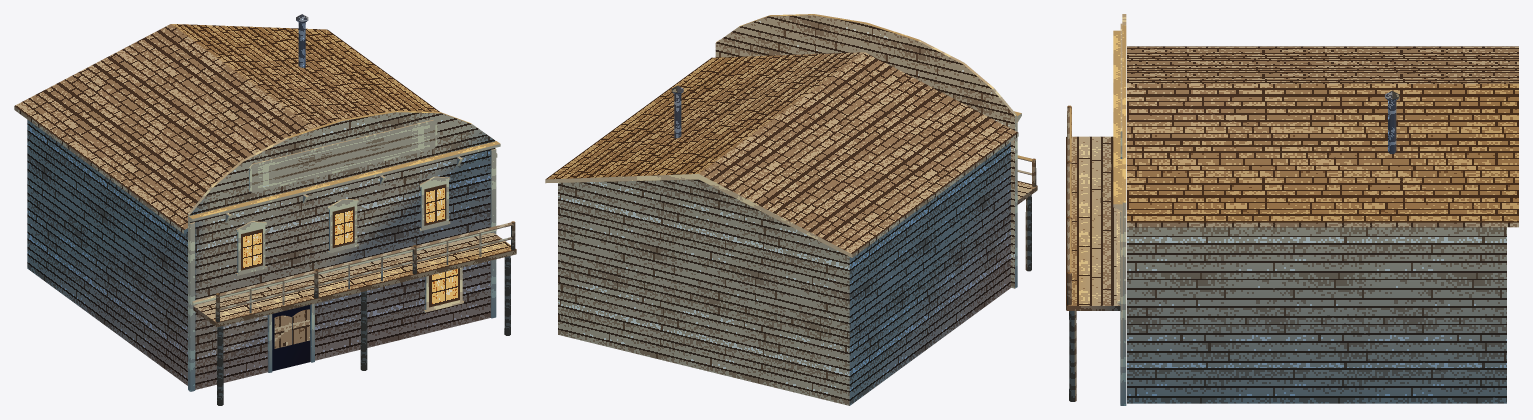
File: wtown.saloon__arched.glb
The picture shows the model from 3 angles, left to right: view 1: azimuth 30°, elevation 25°; view 2: azimuth 150°, elevation 25°; view 3: azimuth 270°, elevation 25°; orthographic projection. The views are drawn at different scales.
Parts seen in each view (by area): view 1: kit_roof, kit_front, kit_body, kit_balcony, kit_card_panes, kit_trim, kit_windows, kit_door, kit_stovepipe; view 2: kit_body, kit_roof, kit_front, kit_balcony, kit_stovepipe; view 3: kit_roof, kit_body, kit_balcony, kit_trim, kit_front, kit_stovepipe.
Boxes of the visible parts, box(x1,y1,x2,y2) form: kit_roof: box(14, 24, 497, 233); kit_front: box(188, 111, 495, 390); kit_body: box(27, 119, 187, 385); kit_balcony: box(193, 221, 516, 405); kit_card_panes: box(241, 122, 459, 371); kit_trim: box(188, 119, 500, 391); kit_windows: box(236, 176, 463, 312); kit_door: box(274, 309, 309, 348); kit_stovepipe: box(296, 14, 308, 67); kit_body: box(558, 142, 1010, 405); kit_roof: box(545, 52, 1018, 257); kit_front: box(715, 14, 1016, 288); kit_balcony: box(1017, 155, 1037, 271); kit_stovepipe: box(671, 85, 683, 138); kit_roof: box(1127, 46, 1518, 227); kit_body: box(1127, 227, 1506, 403); kit_balcony: box(1066, 105, 1120, 401); kit_trim: box(1113, 23, 1122, 405); kit_front: box(1122, 14, 1126, 405); kit_stovepipe: box(1385, 90, 1399, 153).
Bounding box in the file's own units: 12.1 × 8.7 × 13.12.
12 materials, 12 textured.
